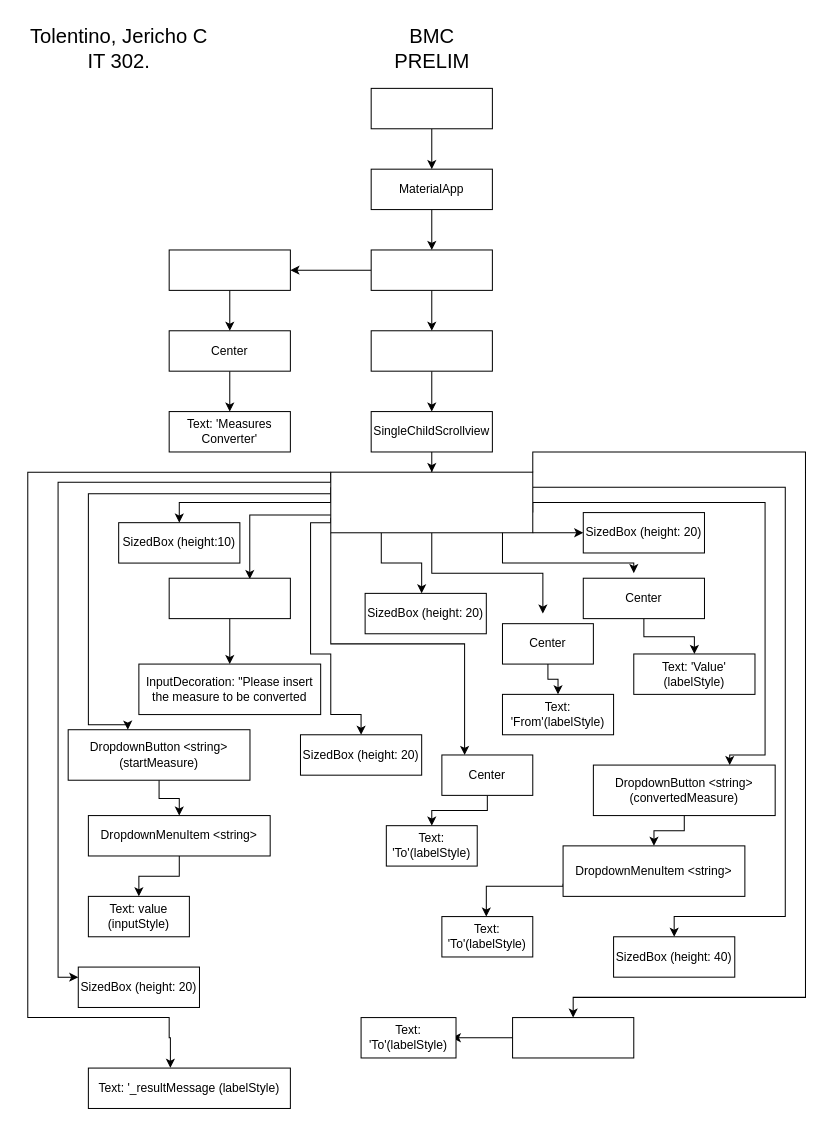
The diagram is 831 pixels wide and 1126 high, and some of its shapes have lost their labels. Each missing label, with the centre of its shape:
AppBar: the point at 229,269
Column crossAxisAlignment, stretch: the point at 431,502
Container: the point at 431,350
ElevetedButton: the point at 573,1037
MyApp: the point at 431,108
Scaffold: the point at 431,269
TextField: the point at 229,598
